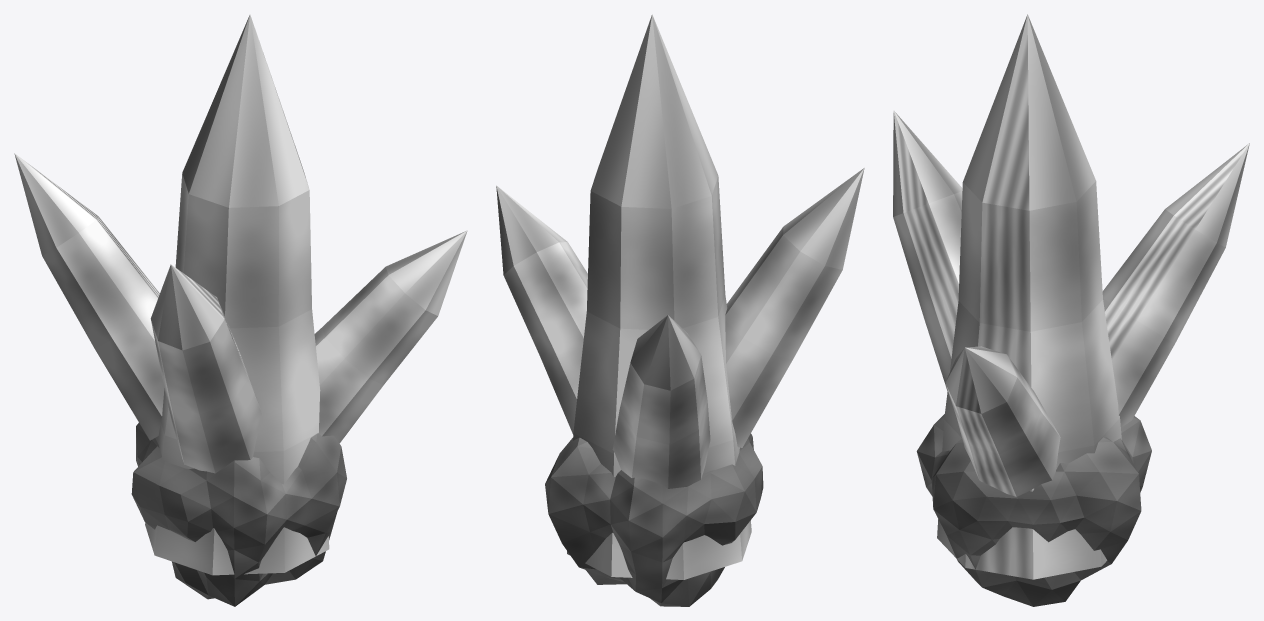
The model's file is earth-advanced.glb.
3 renders of one model, left to right at view 1: azimuth 30°, elevation 25°; view 2: azimuth 150°, elevation 25°; view 3: azimuth 270°, elevation 25°, orthographic.
Parts seen in each view (by area): view 1: earth-advanced; view 2: earth-advanced; view 3: earth-advanced.
Part boxes in pixels (x1,y1,x2,y2): earth-advanced: [14, 14, 467, 606]; earth-advanced: [496, 14, 864, 606]; earth-advanced: [893, 14, 1249, 606].
Bounding box in the file's own units: 0.226 × 0.3758 × 0.2082.
Materials: 1 (1 with a texture image).
